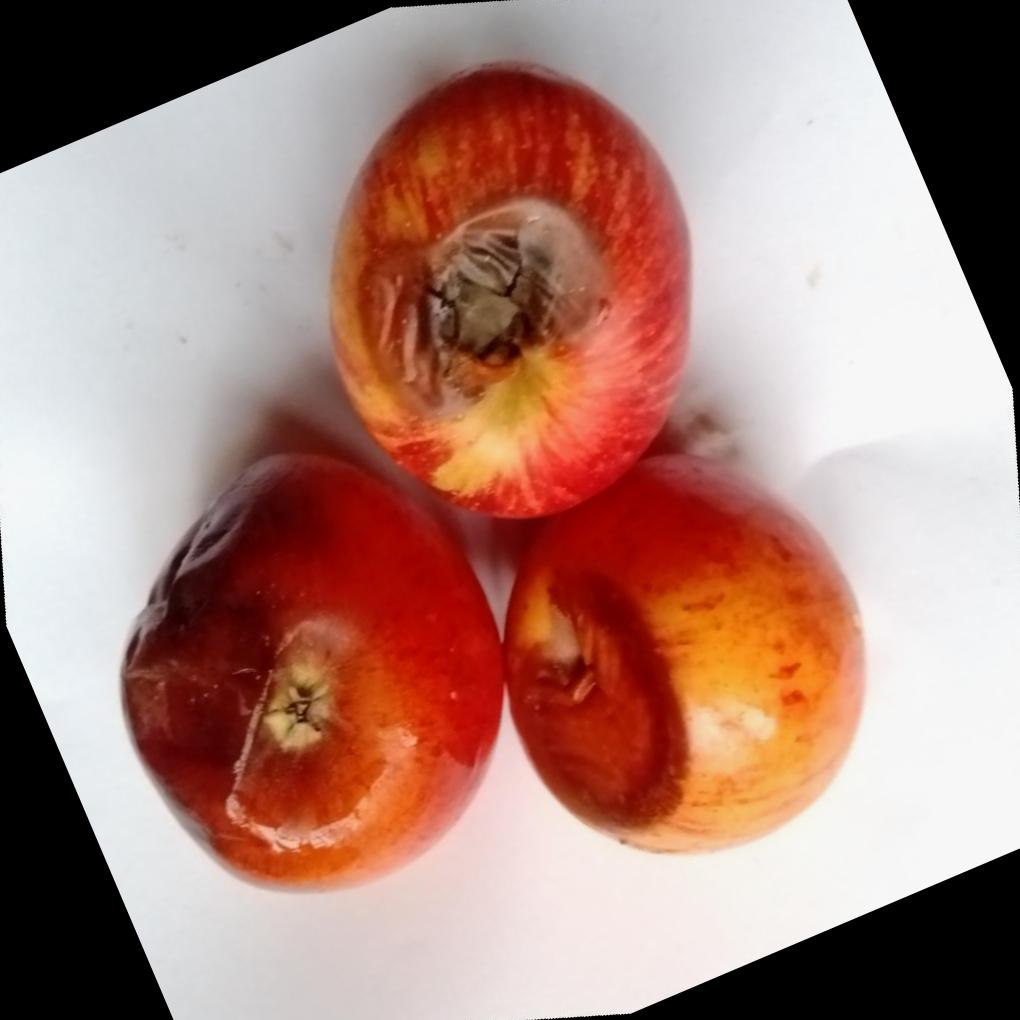FreshOrange: (116, 63, 866, 895)
